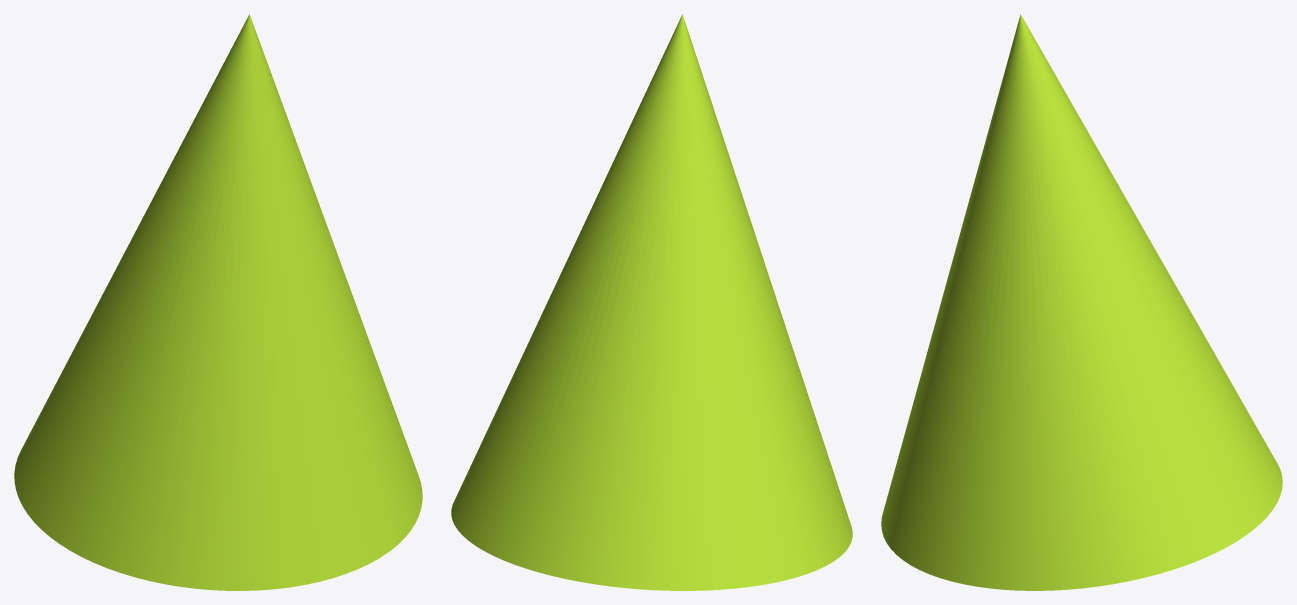
The picture shows the model from 3 angles, left to right: view 1: azimuth 30°, elevation 25°; view 2: azimuth 150°, elevation 25°; view 3: azimuth 270°, elevation 25°; orthographic projection.
Visible parts, largest first — view 1: node_id5; view 2: node_id5; view 3: node_id5.
Part boxes in pixels (left/top/right/bottom): node_id5: left=14, top=14, right=422, bottom=590; node_id5: left=451, top=14, right=852, bottom=590; node_id5: left=881, top=14, right=1282, bottom=590.
Bounding box in the file's own units: 0.562 × 0.7824 × 0.5584.
1 material, 1 textured.
